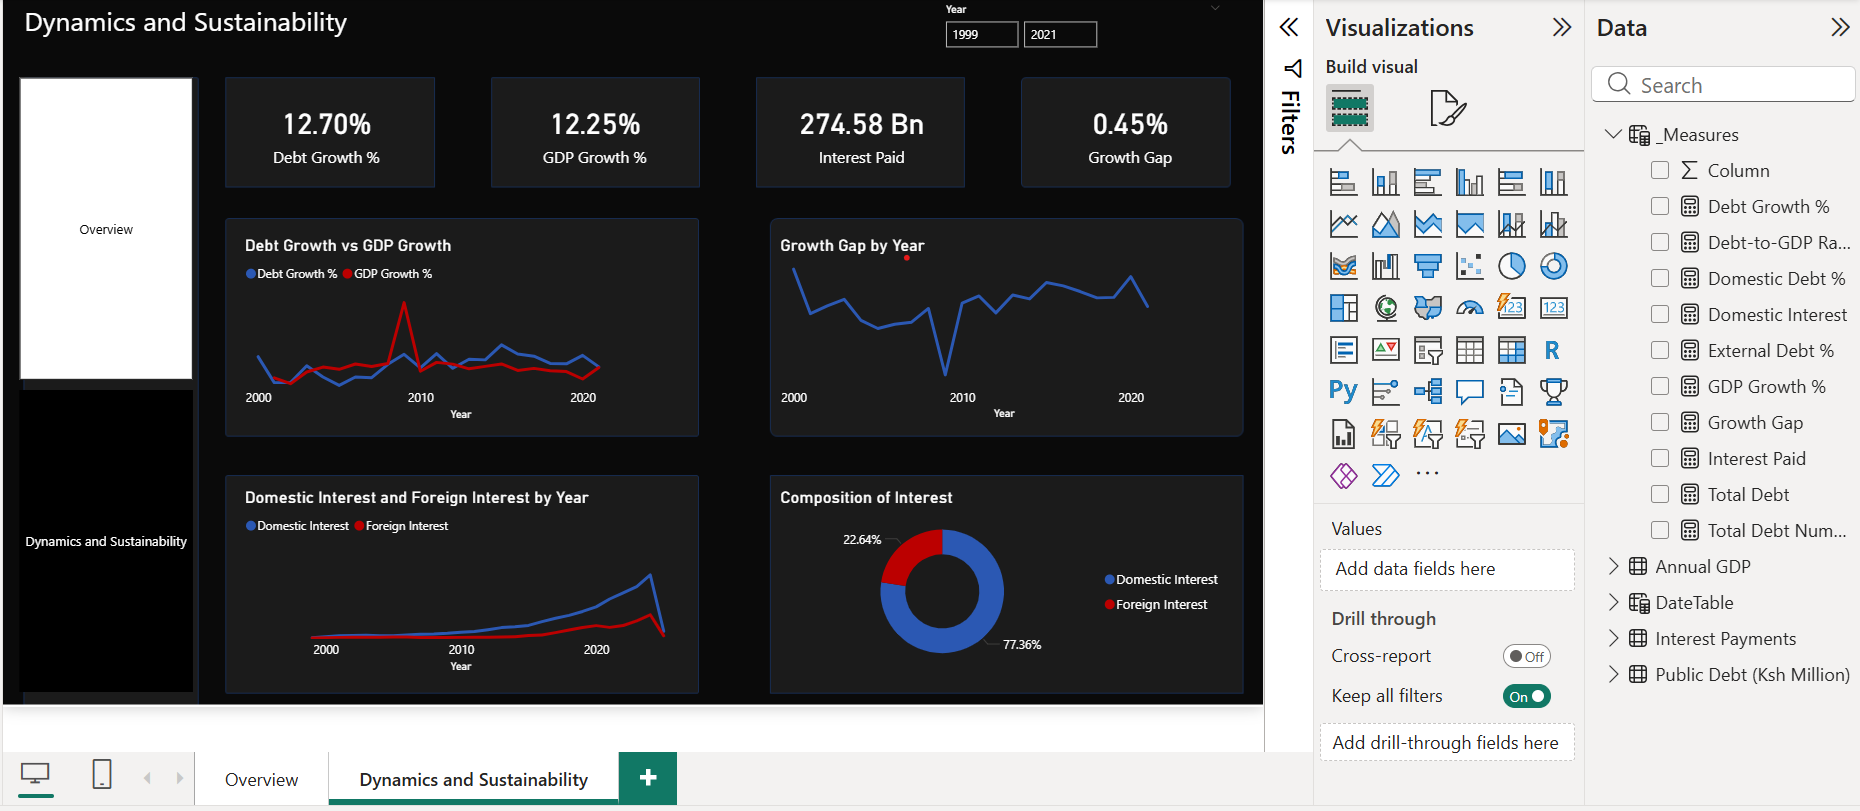

The page's visual inventory and layout, read from the dashboard file:
{"tool":"powerbi","page":{"name":"Dynamics and Sustainability","canvas":[1280,720],"ordinal":1},"visuals":[{"type":"slicer","fields":{"Values":["Public Debt (Ksh Million).Year"]},"box":[944,0,304,80],"z":1000},{"type":"lineChart","title":"Debt Growth vs GDP Growth","fields":{"Y":["_Measures.Debt Growth %","_Measures.GDP Growth %"],"Category":["Public Debt (Ksh Million).Year"]},"box":[240,240,448,192],"z":2000},{"type":"lineChart","fields":{"Y":["_Measures.Growth Gap"],"Category":["Public Debt (Ksh Million).Year"]},"box":[784,240,464,192],"z":3000},{"type":"donutChart","title":"Composition of Interest","fields":{"Y":["Sum(Interest Payments.Domestic Interest)","Sum(Interest Payments.Foreign Interest)"]},"box":[784,496,464,192],"z":4000},{"type":"lineChart","fields":{"Y":["Sum(Interest Payments.Domestic Interest)","Sum(Interest Payments.Foreign Interest)"],"Category":["Interest Payments.Year"]},"box":[240,496,448,192],"z":5000},{"type":"pageNavigator","box":[16,80,176,624],"z":6000},{"type":"card","fields":{"Values":["_Measures.Debt Growth %"]},"box":[224,80,208,112],"z":6001},{"type":"card","fields":{"Values":["_Measures.GDP Growth %"]},"box":[496,80,208,112],"z":6002},{"type":"card","fields":{"Values":["_Measures.Interest Paid"]},"box":[768,80,208,112],"z":6003},{"type":"card","fields":{"Values":["_Measures.Growth Gap"]},"box":[1040,80,208,112],"z":6004},{"type":"textbox","box":[16,0,848,64],"z":6005}]}

Visuals, with their boxes on the page's 1280x720 design canvas (x1, y1, x2, y2). These are canvas units, not pixel positions in the 1860x811 screenshot, which may show the page scaled, cropped or inside an application window:
slicer - Public Debt (Ksh Million).Year: 944:0:1248:80
"Debt Growth vs GDP Growth" lineChart: 240:240:688:432
lineChart - _Measures.Growth Gap x Public Debt (Ksh Million).Year: 784:240:1248:432
"Composition of Interest" donutChart: 784:496:1248:688
lineChart - Sum(Interest Payments.Domestic Interest) x Sum(Interest Payments.Foreign Interest): 240:496:688:688
pageNavigator: 16:80:192:704
card - _Measures.Debt Growth %: 224:80:432:192
card - _Measures.GDP Growth %: 496:80:704:192
card - _Measures.Interest Paid: 768:80:976:192
card - _Measures.Growth Gap: 1040:80:1248:192
textbox: 16:0:864:64
